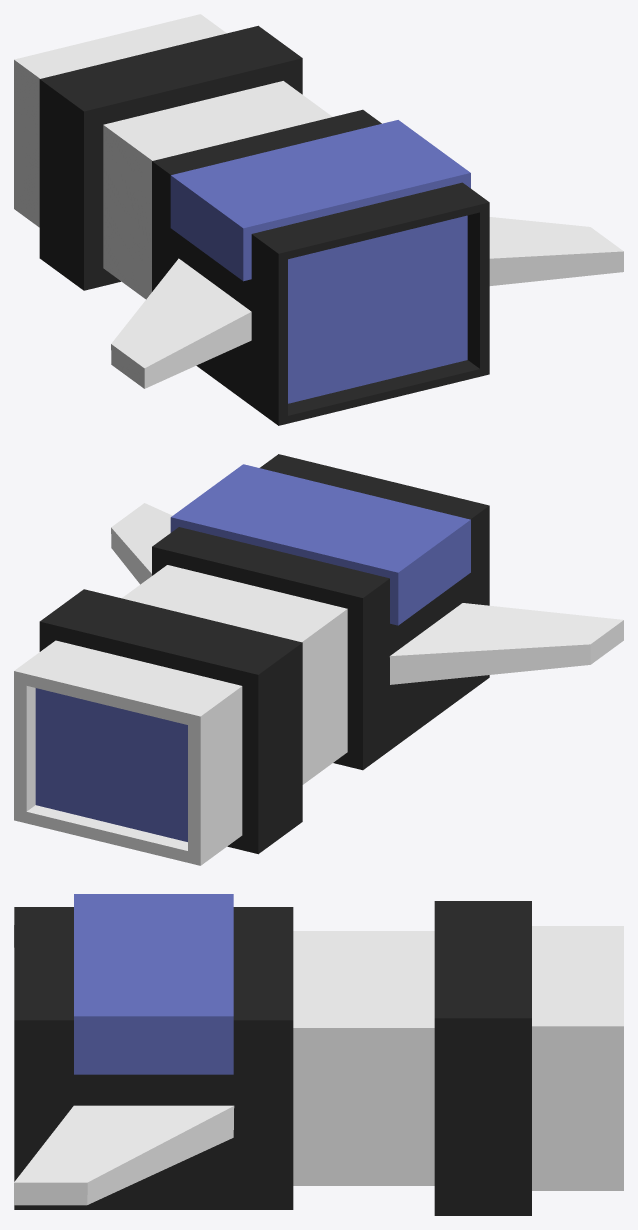
The model's file is Enem1.fbx.
3 views of the same model, one above another, from view 1: azimuth 30°, elevation 25°; view 2: azimuth 150°, elevation 25°; view 3: azimuth 270°, elevation 25° (orthographic). The views are drawn at different scales.
Parts seen in each view (by area): view 1: Enem1; view 2: Enem1; view 3: Enem1.
Boxes of the visible parts, left/top/right/bottom form: Enem1: left=14, top=14, right=623, bottom=425; Enem1: left=14, top=454, right=623, bottom=865; Enem1: left=14, top=894, right=623, bottom=1215.
Size of the model in its own units: 581 by 212 by 581.
